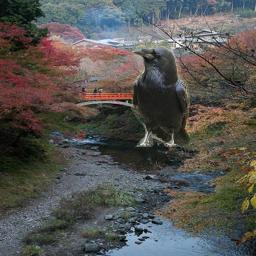Crow: (131, 46, 190, 147)
